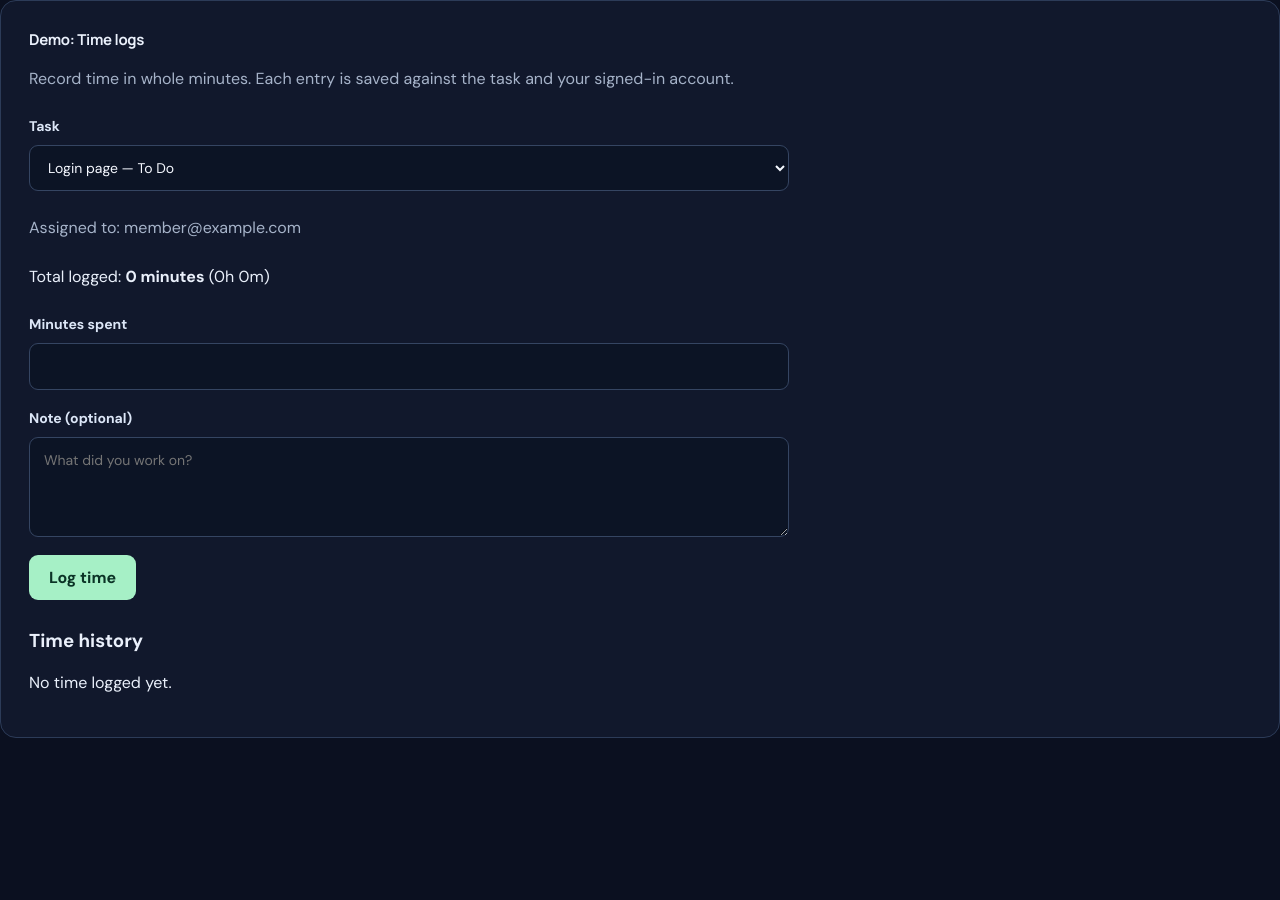
failed save shows the error and preserves input for correction
Expected: the text "No time logged yet." is shown, [29,672,172,692]
Type "15" into the number field labelled "Minutes spent" at (409, 366), box [29,343,789,390]
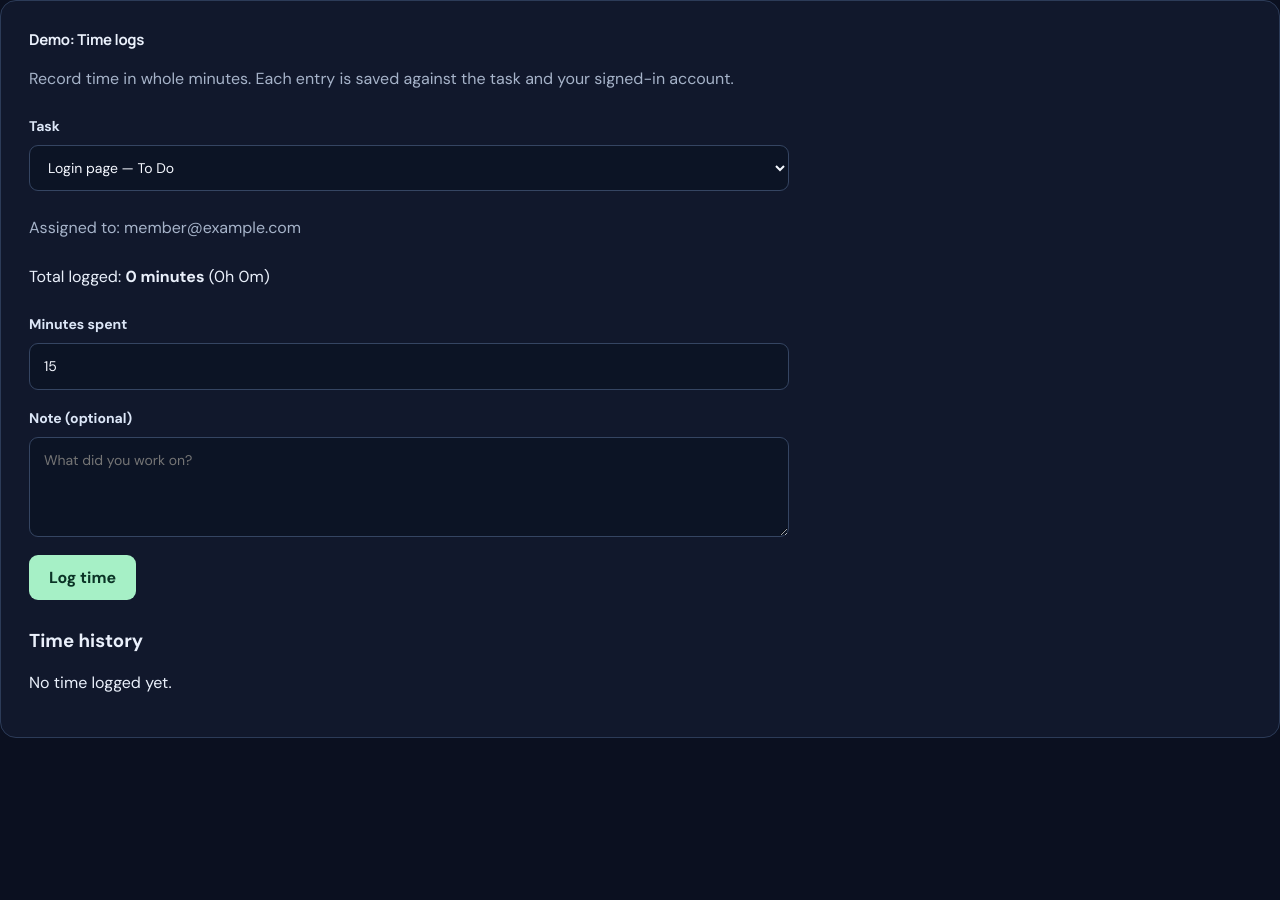
Click the button "Log time" at (83, 577), box [29,555,136,600]
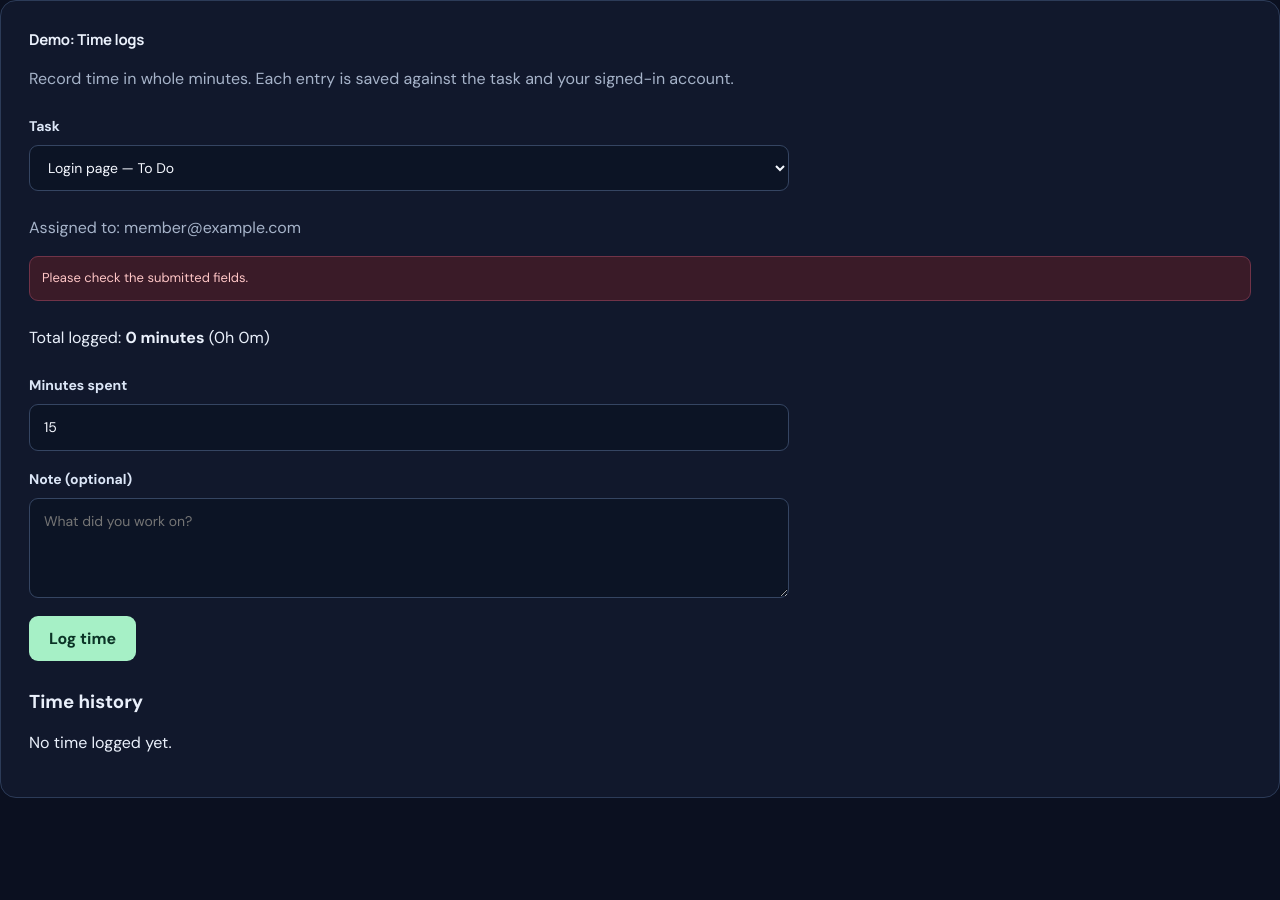
Expected: the text "Total logged: 0 minutes (0h 0m)" is shown, [29,327,270,348]
Now the message shows "Please check", box [42,269,248,286]
